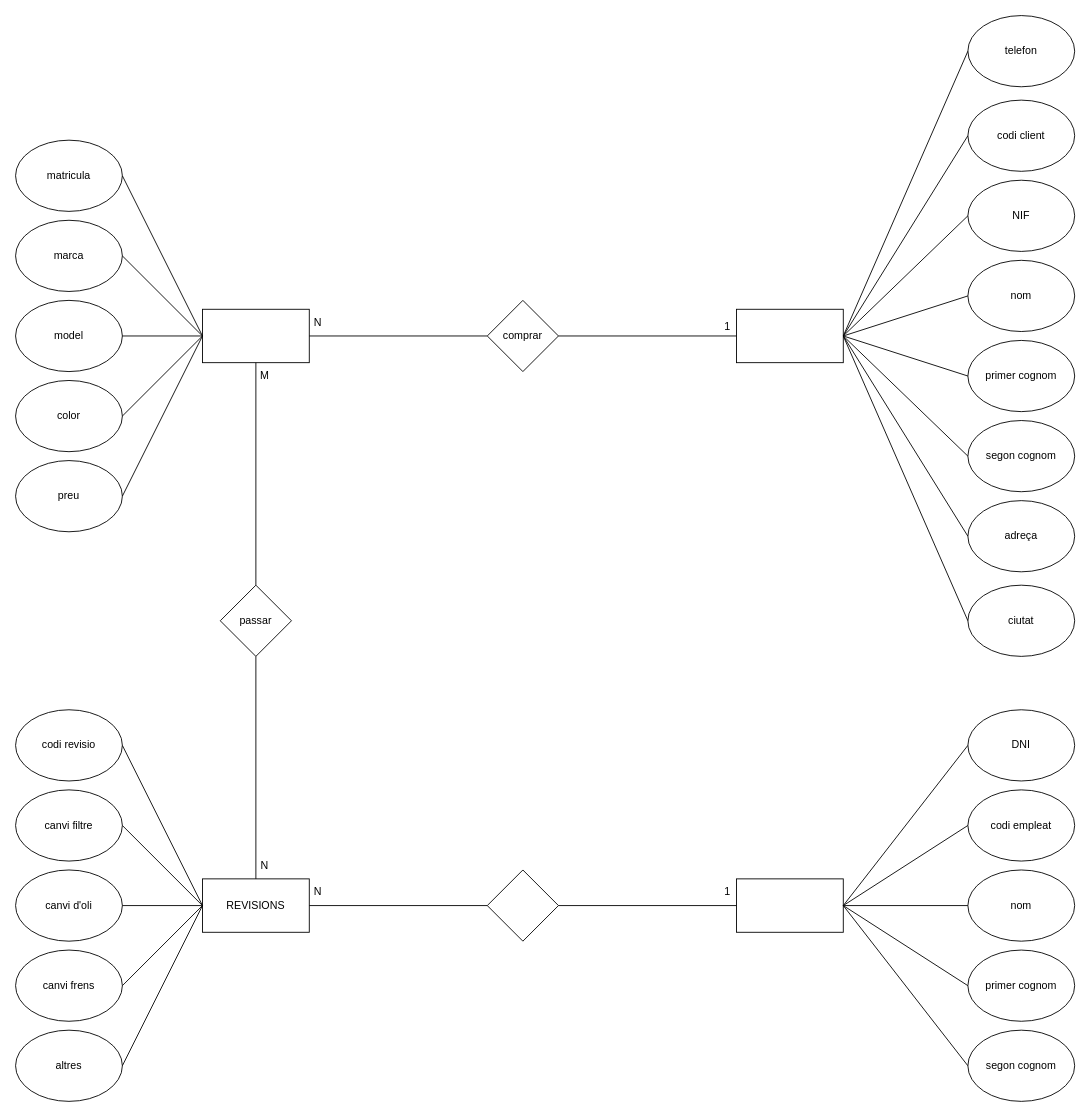
Image size: 1090x1117. Some labels were removed from this diagram. Here are the shapes that lost their labels. From the top down, the centre of each, then its label:
[255,335]: COTXES
[789,335]: CLIENTS
[522,905]: realitzar
[789,905]: EMPLEATS
